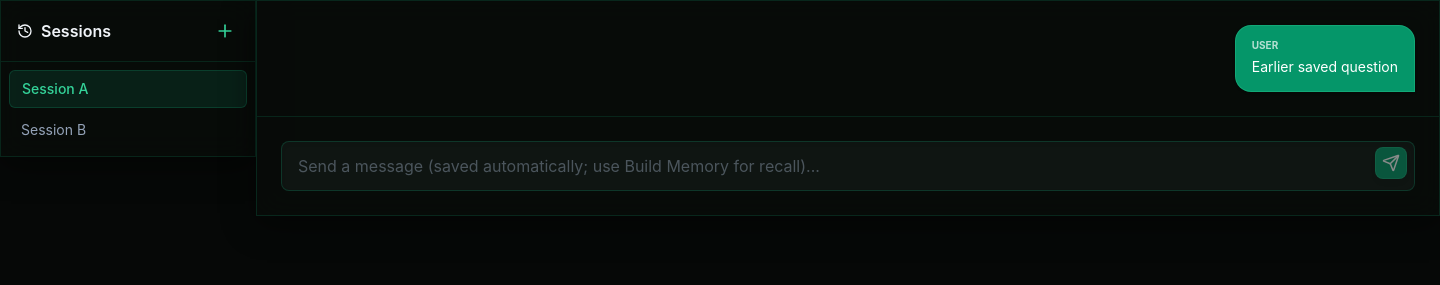
removes only the failed optimistic message and restores its draft
The image size is (1440, 285).
Expected: the text "Earlier saved question" is shown, left=1252, top=56, right=1398, bottom=79
In the field: (848,166) left=281, top=141, right=1415, bottom=191, type "Failed question"
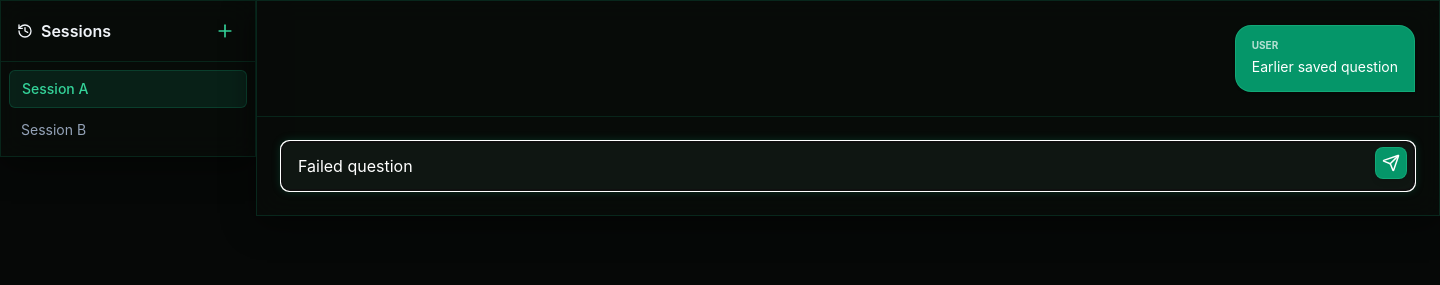
Click the button named "Send message": (1391,163) left=1375, top=147, right=1407, bottom=179
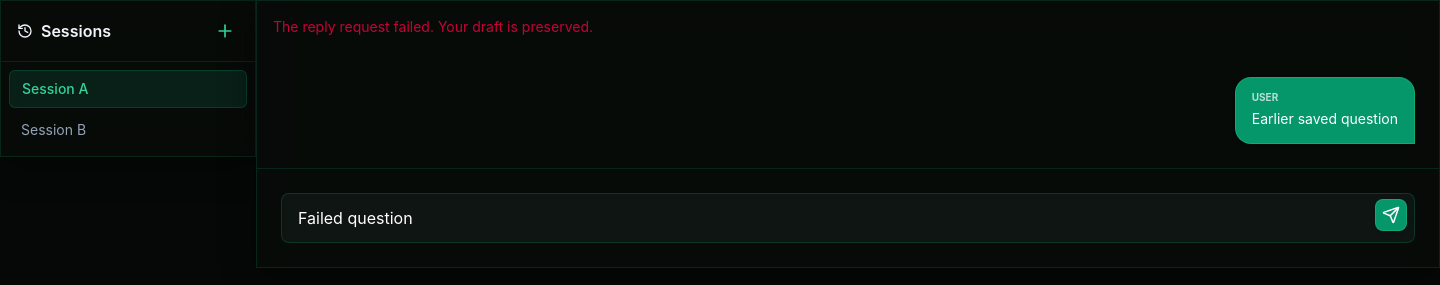
Expected: the text "Earlier saved question" is shown, left=1252, top=108, right=1398, bottom=131
Result: the message "The reply request failed. Your draft is preserved." is shown at left=273, top=18, right=593, bottom=35
